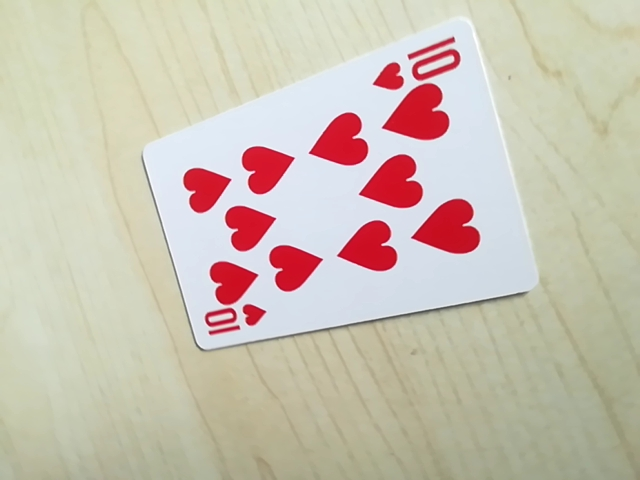hx 10: (375, 34, 464, 89), (199, 300, 267, 343)
